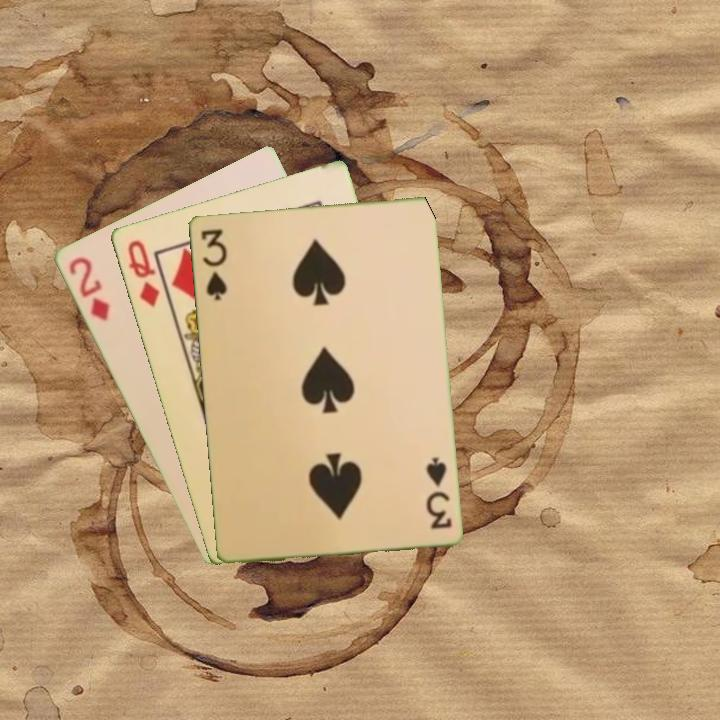2d: (64, 253, 112, 324)
3s: (197, 224, 230, 303), (422, 453, 454, 532)
Qd: (123, 236, 162, 310)
